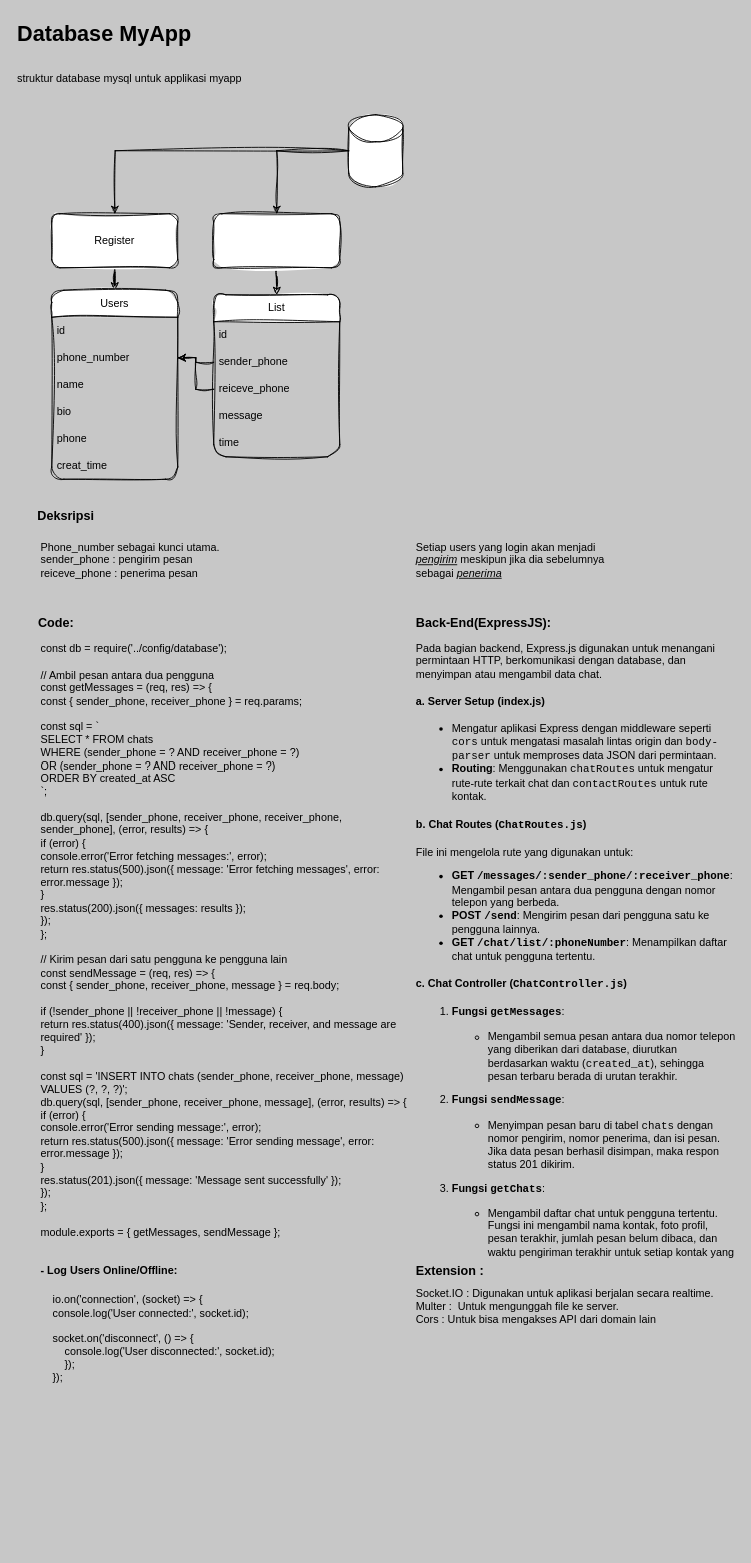
Image size: 751x1563. Some labels were removed from this diagram. The shapes that lost their labels are listed below. From the top down, each one's box as (x1, y1, x2, y2) in pixels, then its label:
(348, 114, 403, 187): Chatapp
(213, 213, 340, 268): Chat
